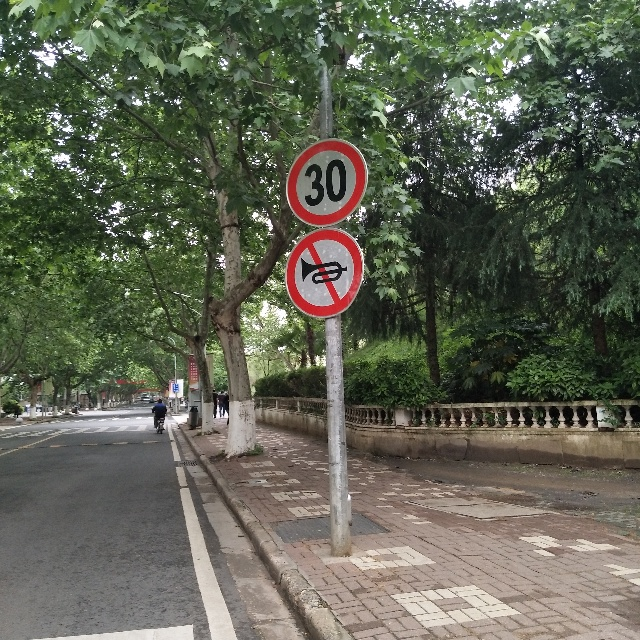nohonk: (282, 230, 363, 313)
